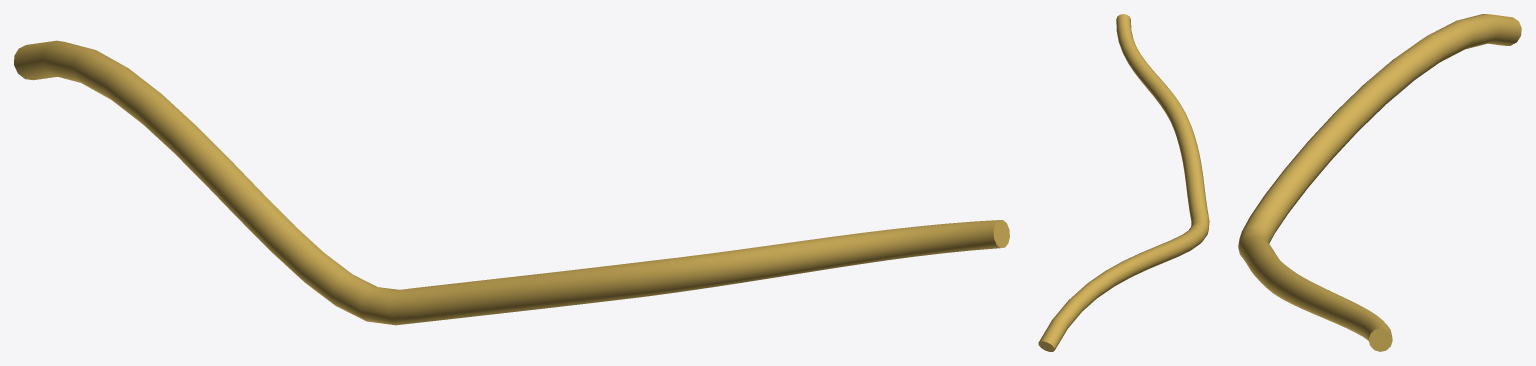
3 views of the same model, side by side, from view 1: azimuth 30°, elevation 25°; view 2: azimuth 150°, elevation 25°; view 3: azimuth 330°, elevation 25° (orthographic). The views are drawn at different scales.
Parts seen in each view (by area): view 1: 右侧下颌神经后干; view 2: 右侧下颌神经后干; view 3: 右侧下颌神经后干.
Boxes of the visible parts, x1,y1,x2,y2 form: 右侧下颌神经后干: [14, 40, 1009, 325]; 右侧下颌神经后干: [1038, 14, 1209, 351]; 右侧下颌神经后干: [1238, 14, 1521, 351].
Size of the model in its own units: 0.0206 by 0.00803 by 0.0466.
